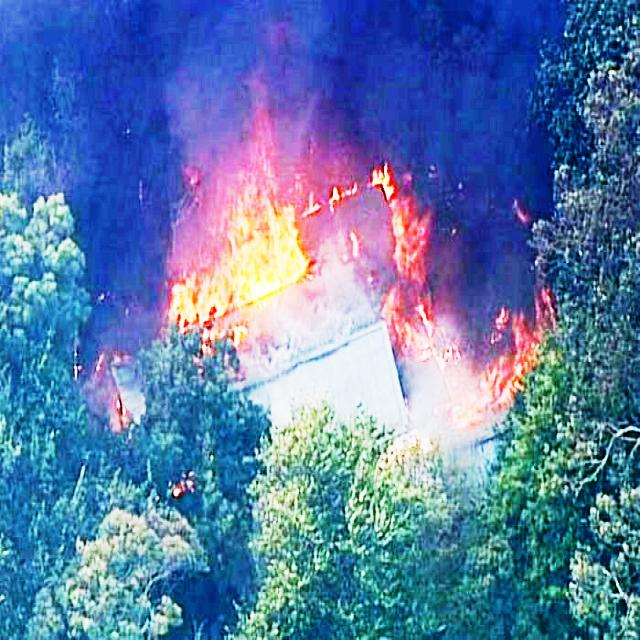api: (175, 213, 306, 332), (456, 333, 531, 441), (392, 195, 424, 298), (379, 170, 400, 201)
